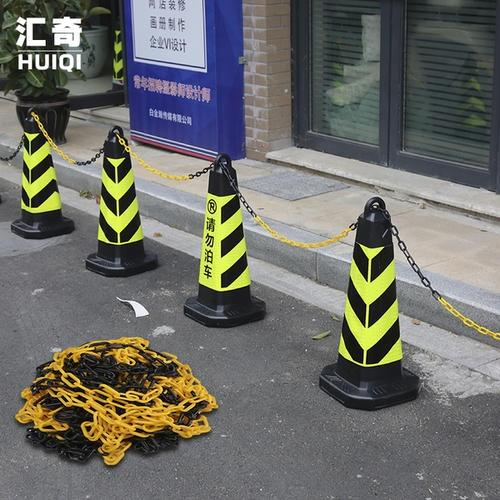cone_barrel: (318, 200, 423, 403), (180, 153, 268, 327), (82, 125, 157, 272), (10, 97, 72, 236)
